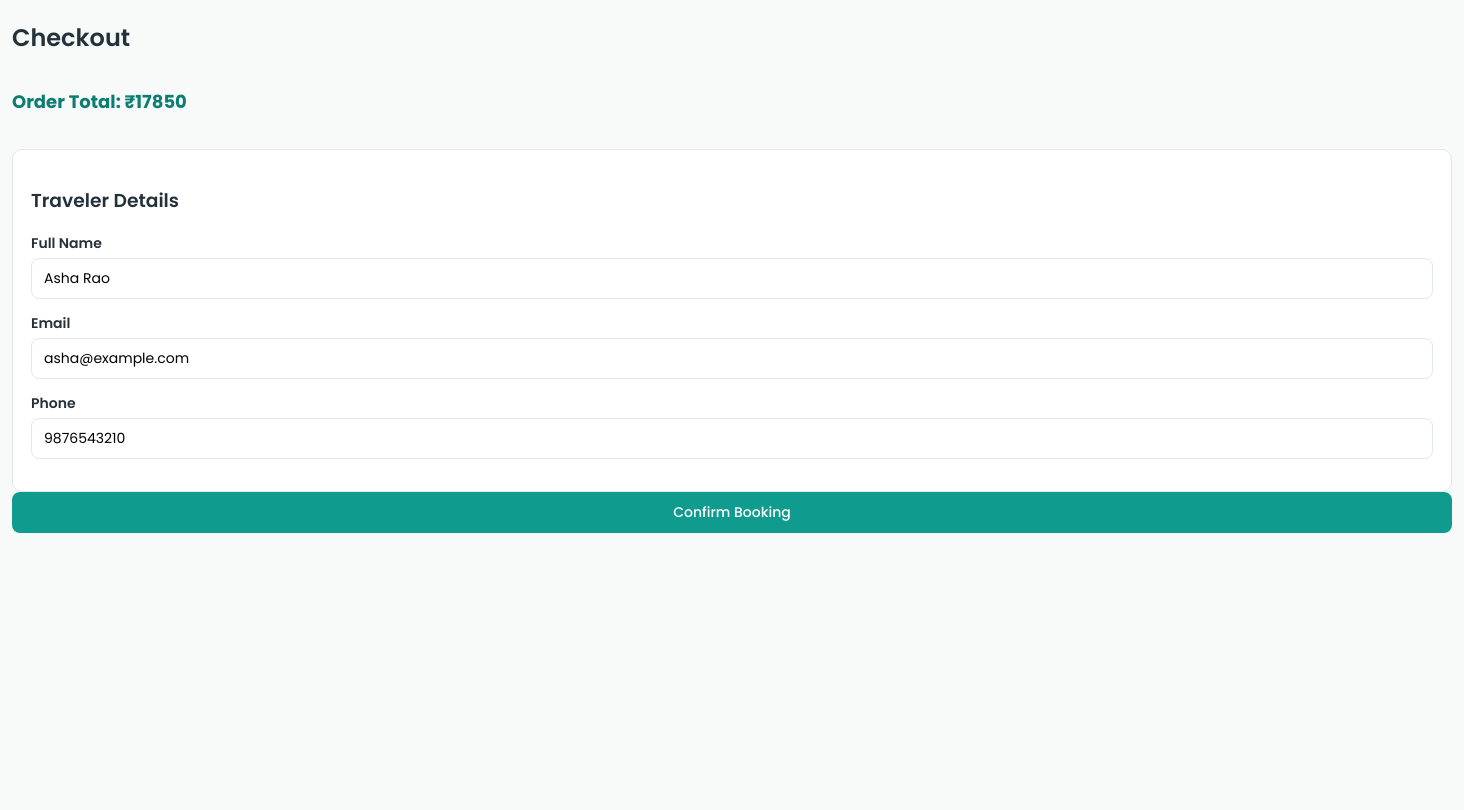
Test: Checkout (confirm booking) › shows an error and keeps the cart when booking fails
This screenshot has width=1464, height=810.
Click the button "Confirm Booking": [732, 513] box left=12, top=492, right=1452, bottom=533
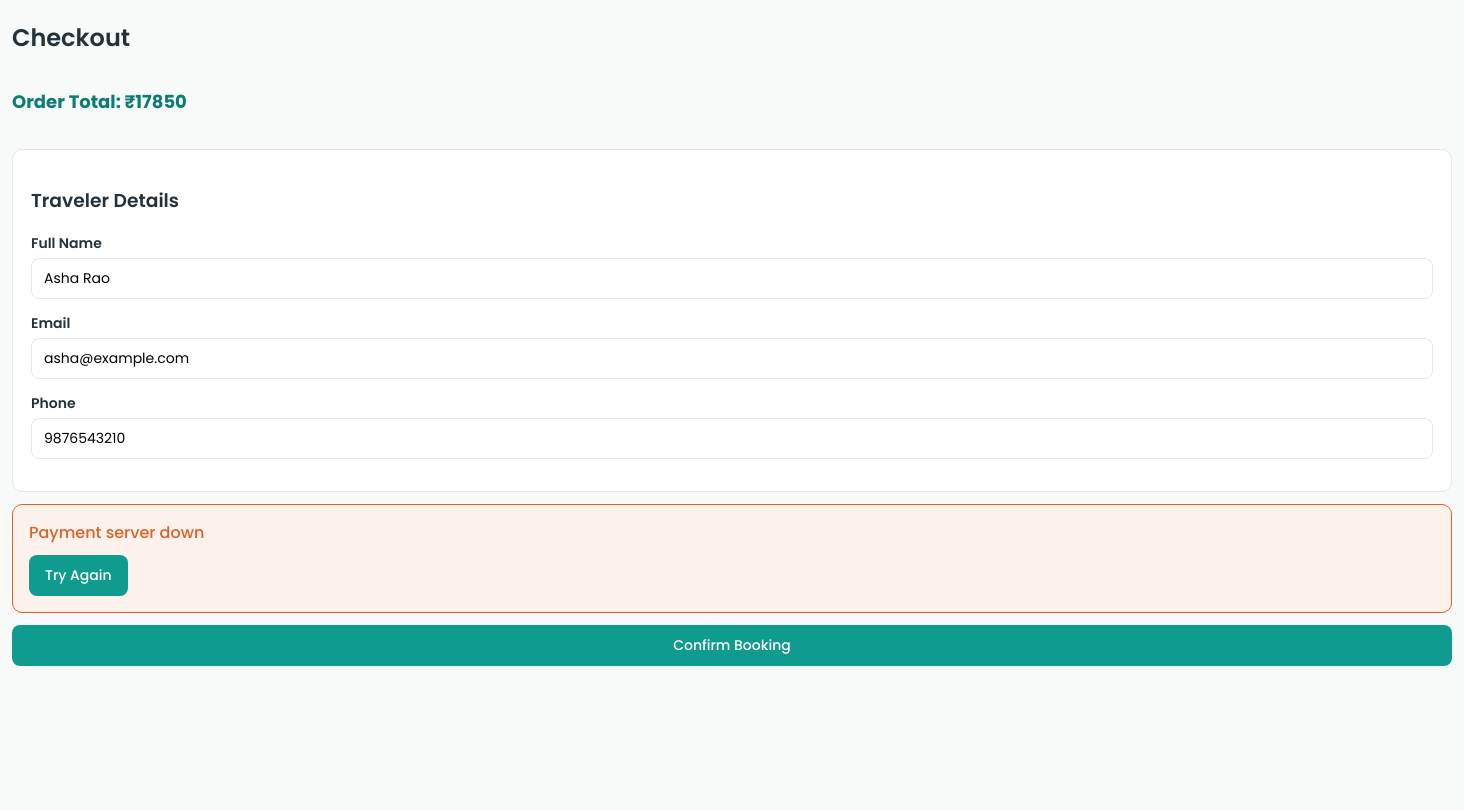
expect the text "Payment server down" is shown: met, box left=29, top=521, right=204, bottom=544
